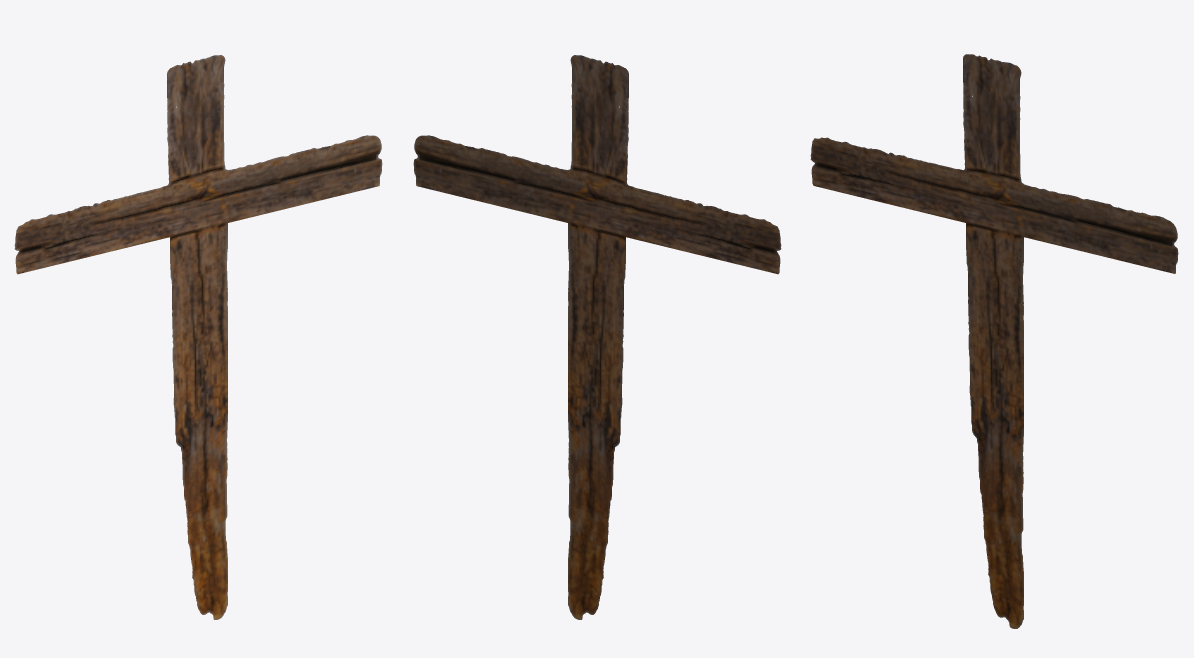
The model's file is wall_cross_5.fbx.
3 renders of one model, left to right at view 1: azimuth 30°, elevation 25°; view 2: azimuth 150°, elevation 25°; view 3: azimuth 330°, elevation 25°, orthographic.
Parts seen in each view (by area): view 1: wall_cross_05; view 2: wall_cross_05; view 3: wall_cross_05.
Part boxes in pixels (x1,y1,x2,y2): wall_cross_05: (14,55,382,619); wall_cross_05: (413,55,781,619); wall_cross_05: (810,54,1178,628).
Size of the model in its own units: 34.84 by 52 by 2.43e-05.
